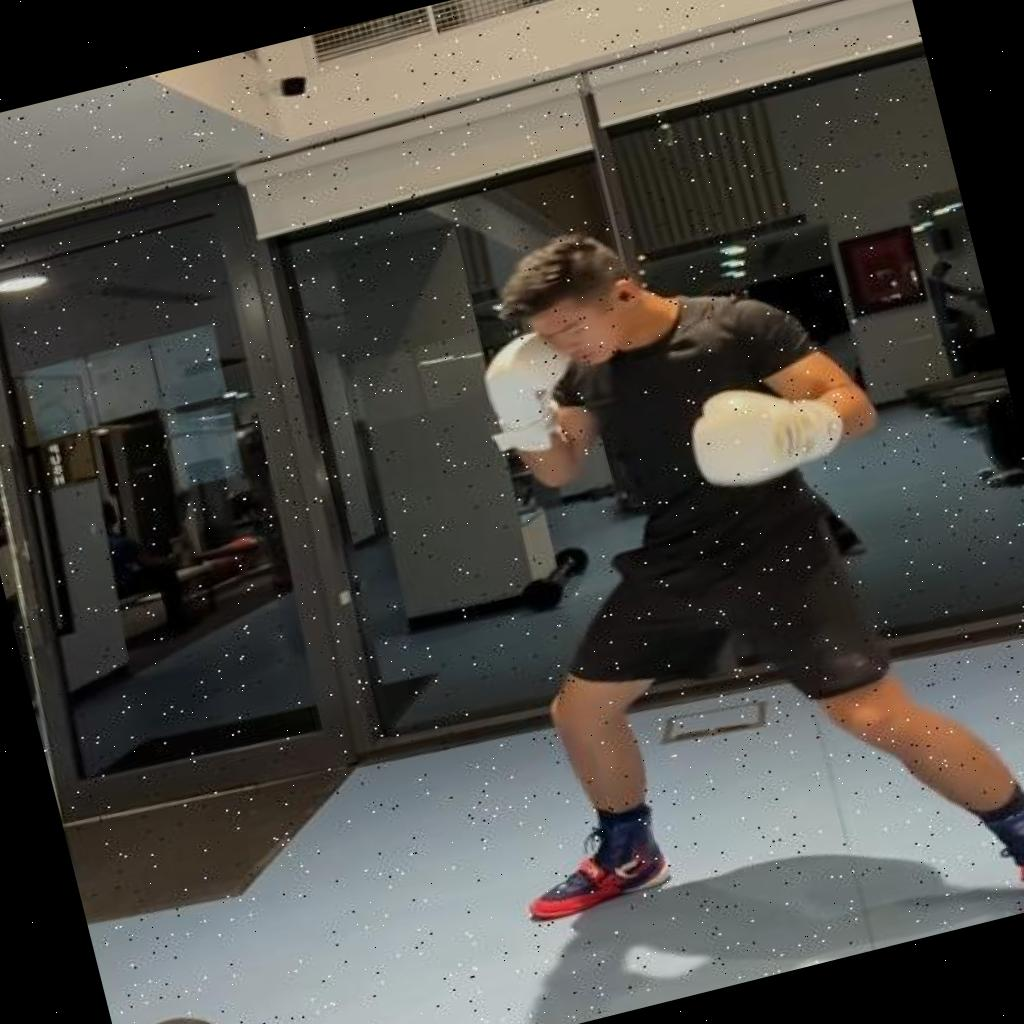no punch: (369, 147, 1024, 1024)
